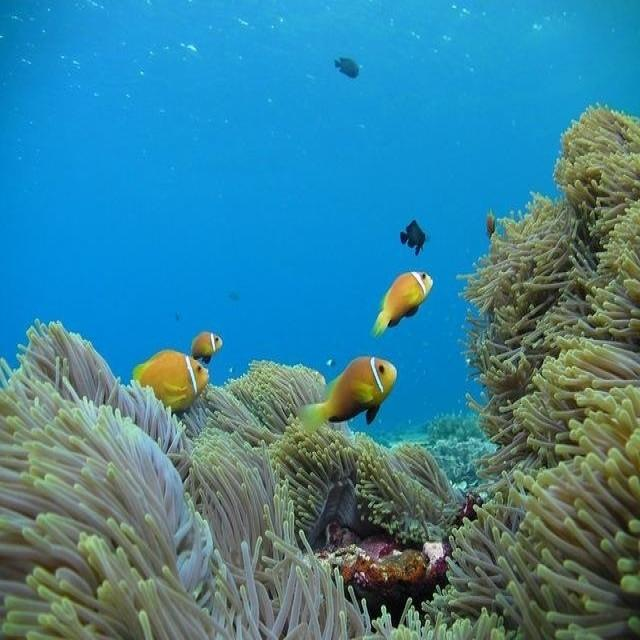aquatic plants: (0, 317, 508, 639), (422, 105, 639, 639), (266, 413, 466, 544)
fish: (300, 355, 397, 435), (133, 349, 211, 412), (372, 271, 432, 340), (191, 330, 224, 362), (399, 223, 426, 257), (335, 58, 359, 76)
